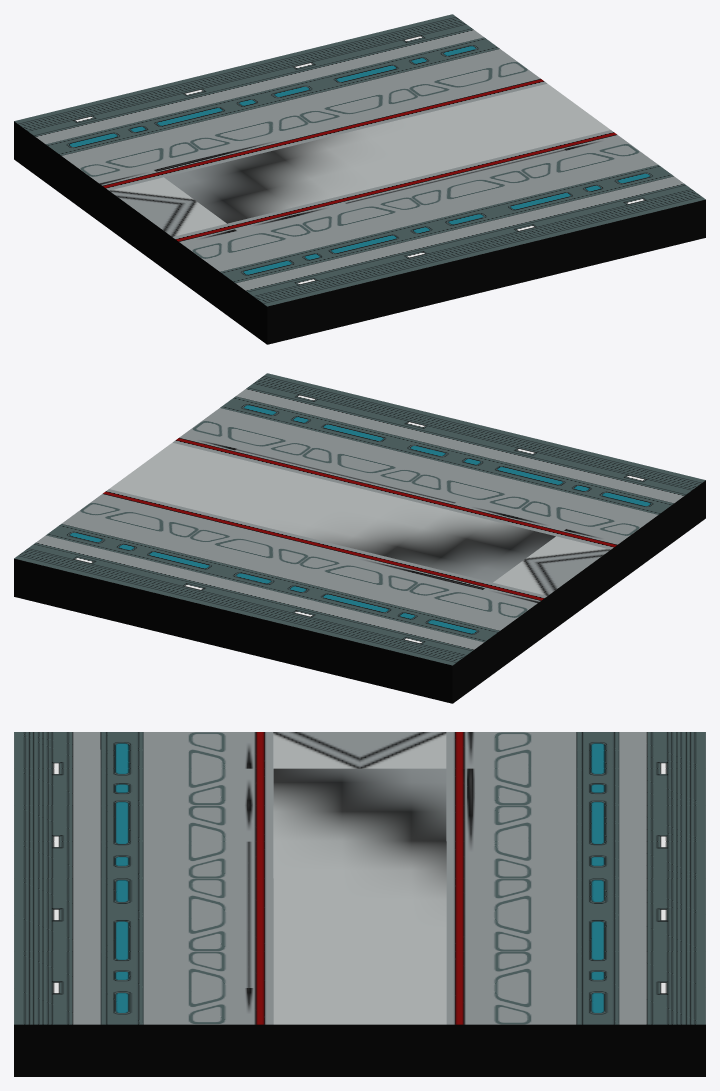
Rendered from 6x6corridor.fbx.
3 views of the same model, one above another, from view 1: azimuth 30°, elevation 25°; view 2: azimuth 150°, elevation 25°; view 3: azimuth 270°, elevation 25° (orthographic). The views are drawn at different scales.
Parts seen in each view (by area): view 1: 3x3corridor; view 2: 3x3corridor; view 3: 3x3corridor.
Boxes of the visible parts, x1,y1,x2,y2 form: 3x3corridor: [14, 14, 705, 344]; 3x3corridor: [14, 373, 705, 703]; 3x3corridor: [14, 732, 705, 1076].
Size of the model in its own units: 600 by 600 by 50.
